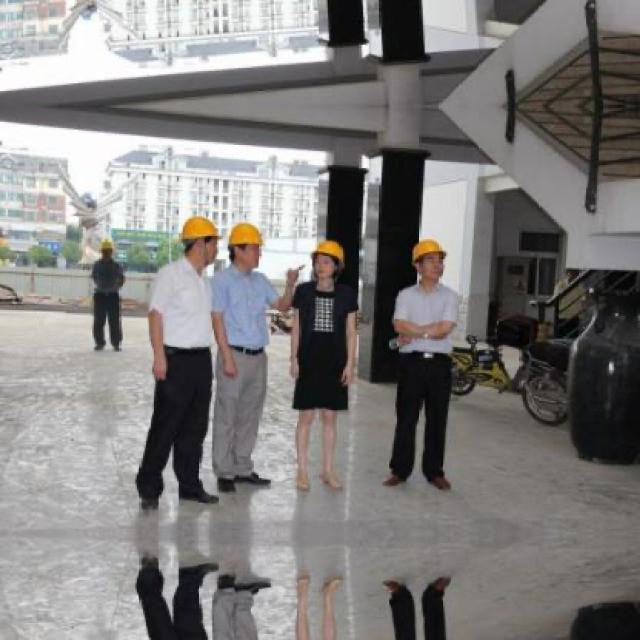con casco: (303, 203, 368, 311), (160, 210, 218, 306), (404, 218, 457, 298), (229, 217, 276, 288)
